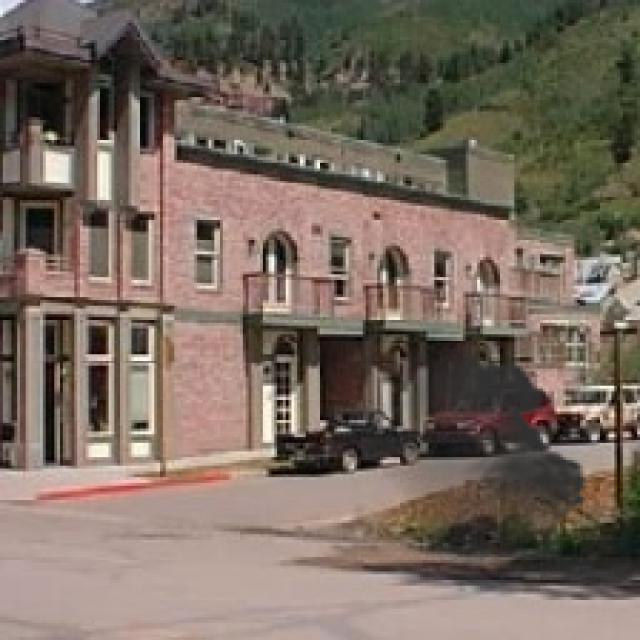smoke: (340, 340, 597, 594)
